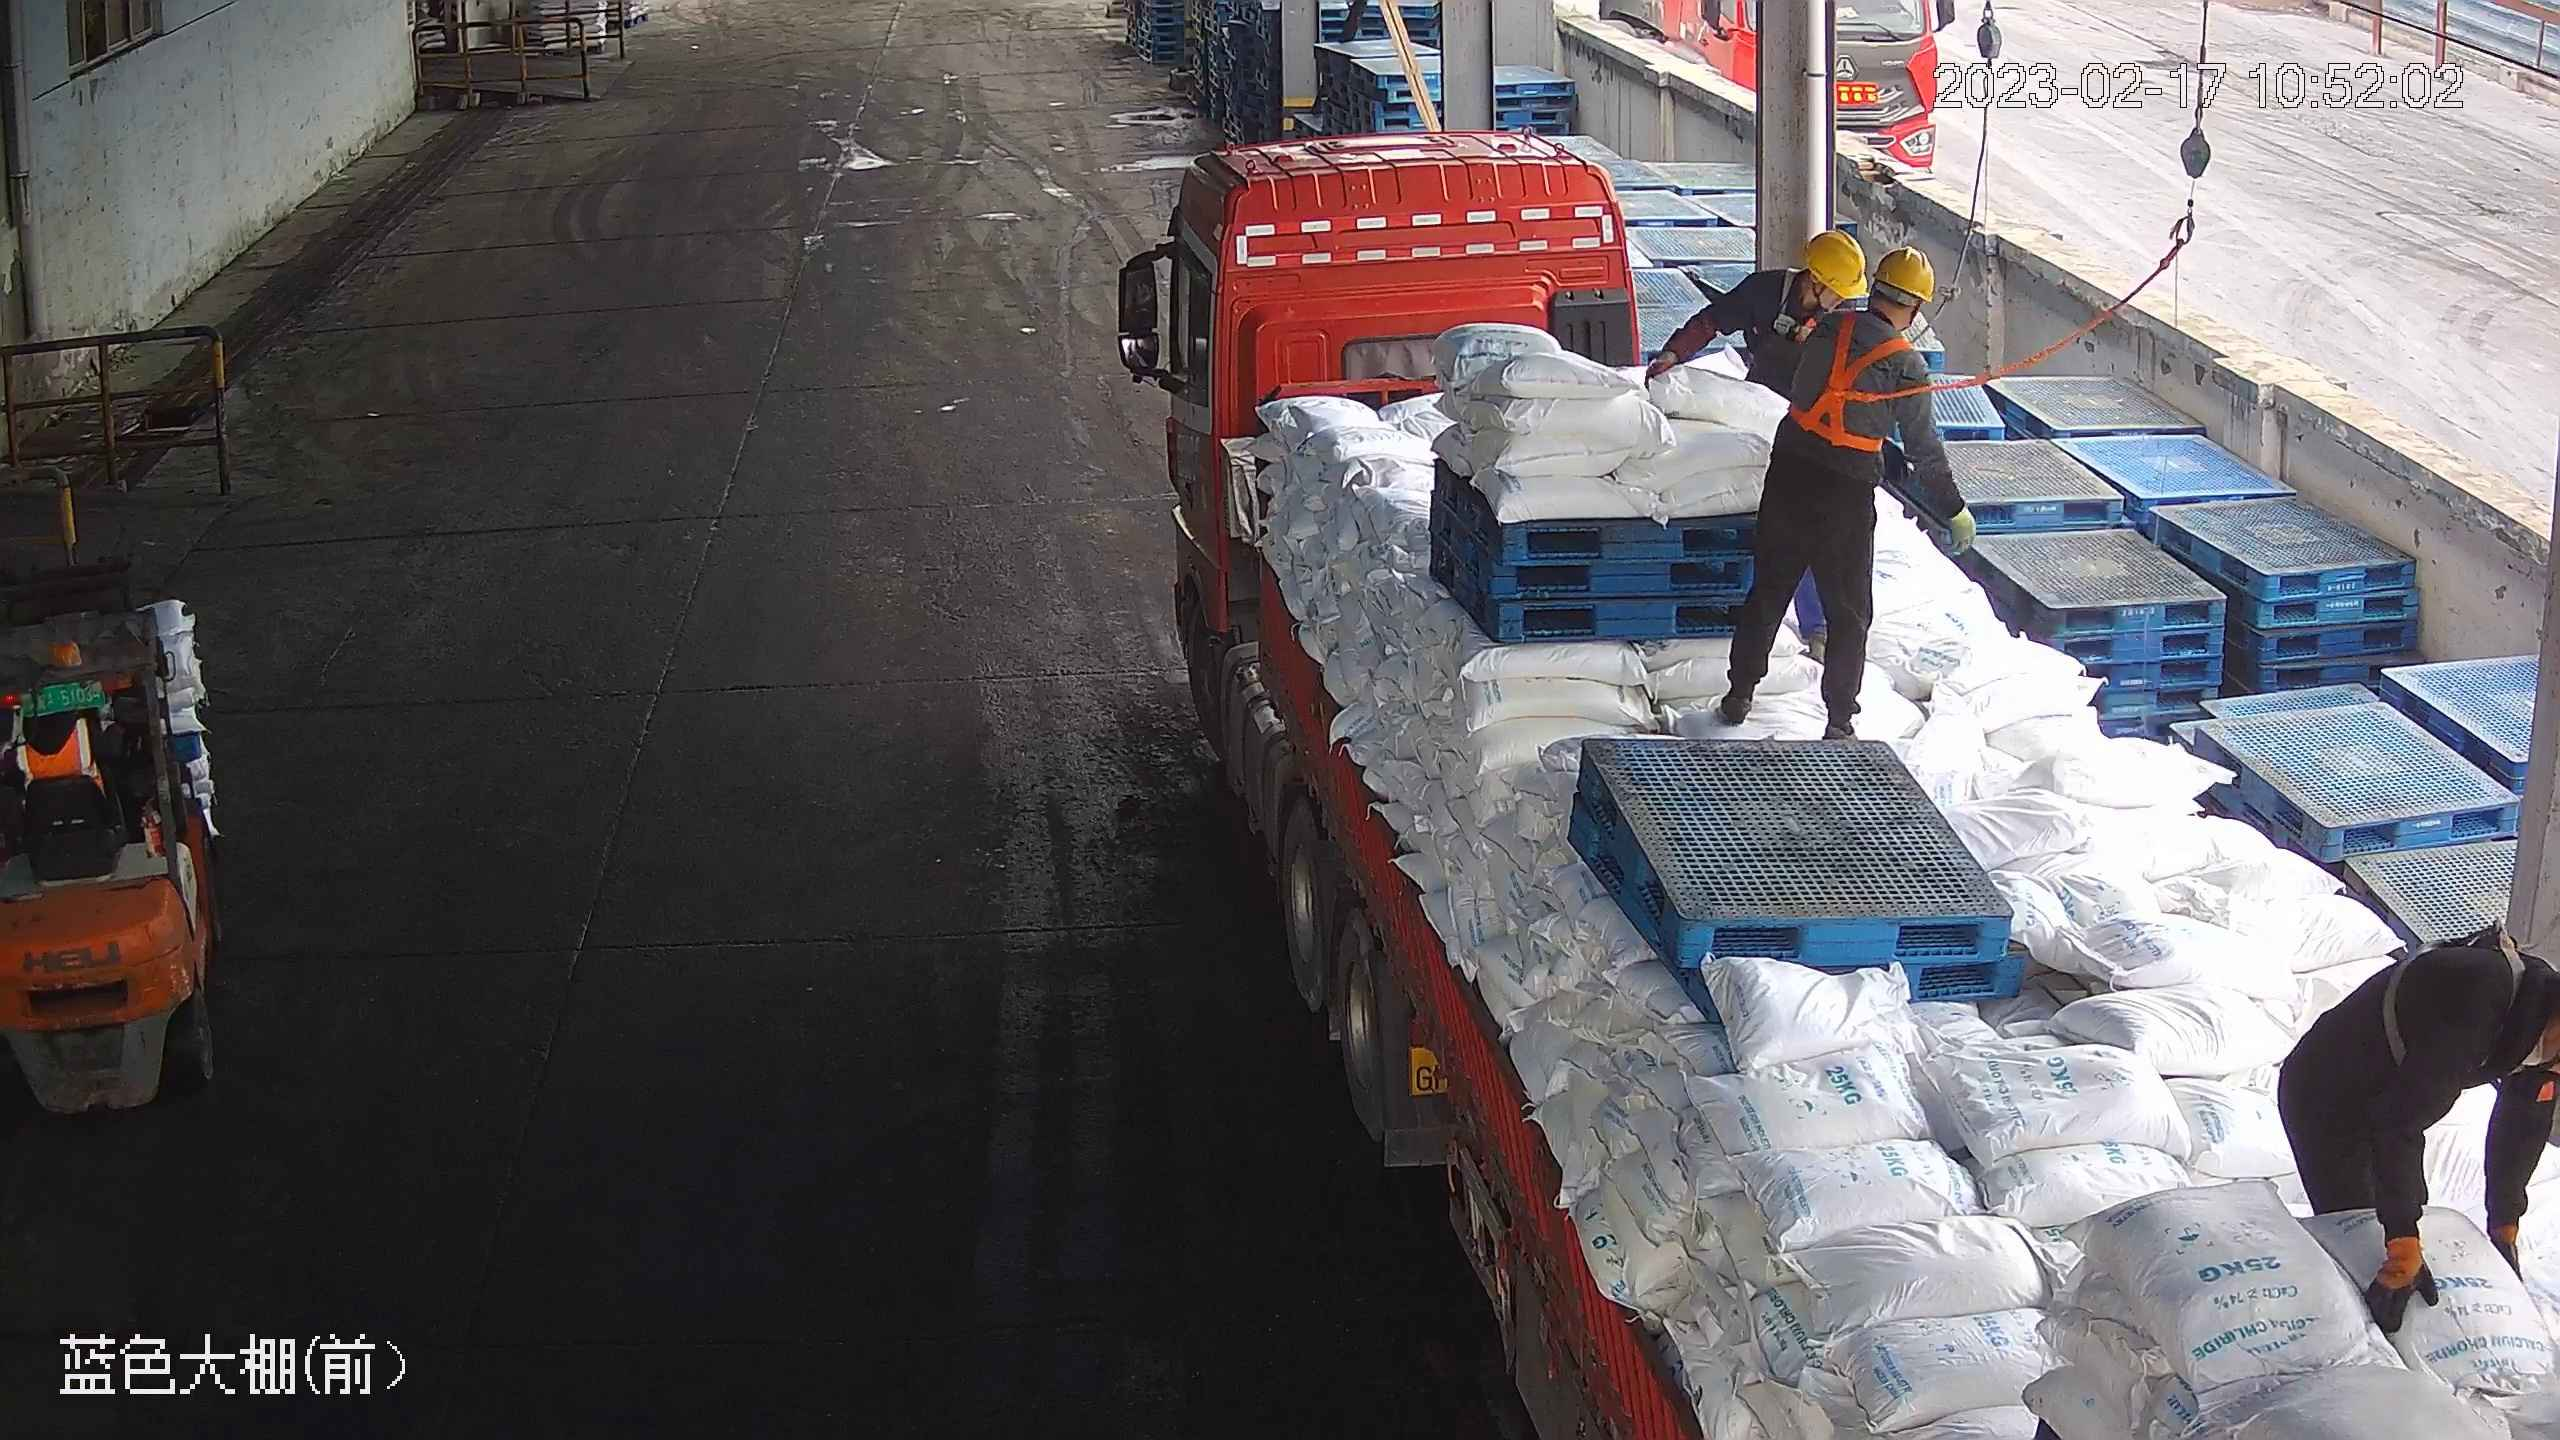belt: (1791, 312, 1924, 450), (1777, 273, 1834, 342)
head: (1803, 245, 1939, 377), (1732, 226, 1868, 334)
helmet: (1799, 227, 1867, 299), (1870, 243, 1932, 308)
people: (1712, 246, 1981, 740), (2272, 925, 2558, 1336)
truck: (1102, 137, 2550, 1439)
